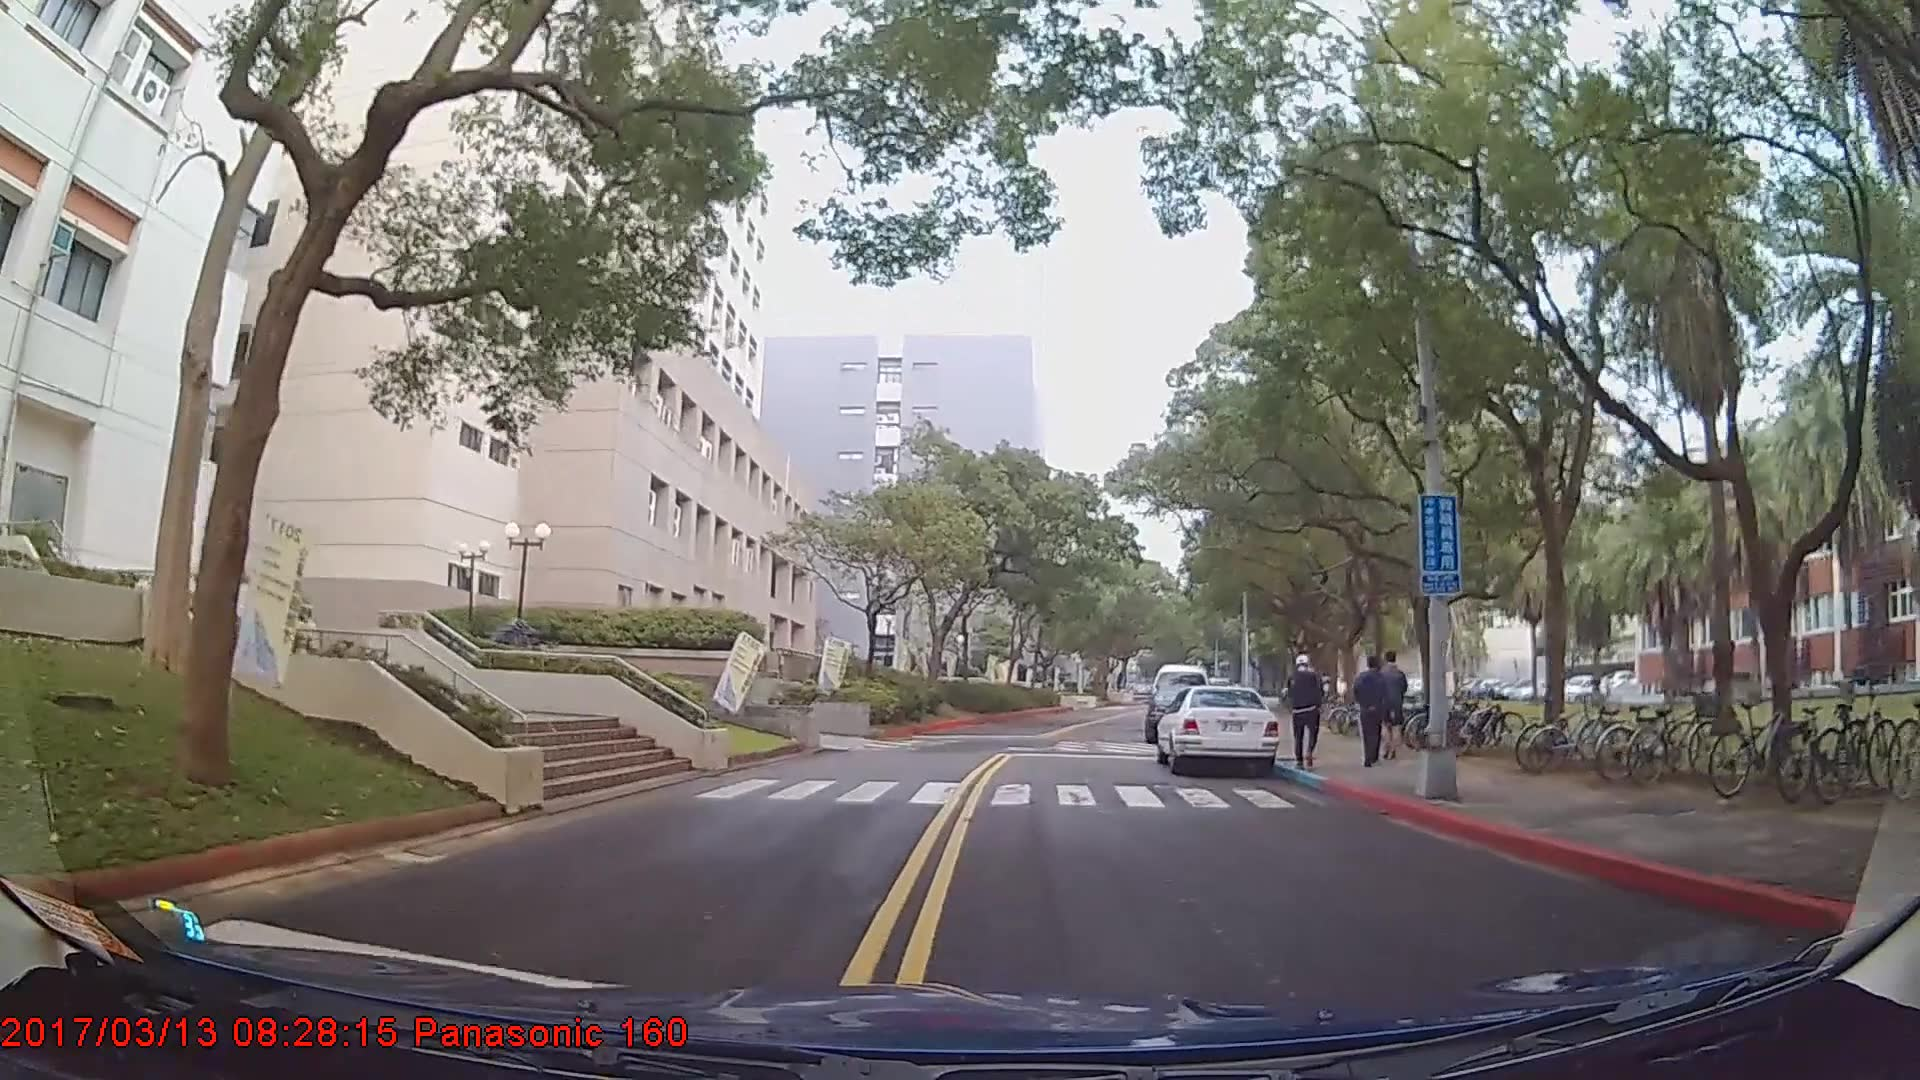pedestrian: (1357, 648, 1393, 768), (1292, 656, 1322, 770)
vehicle: (1153, 685, 1279, 777)
